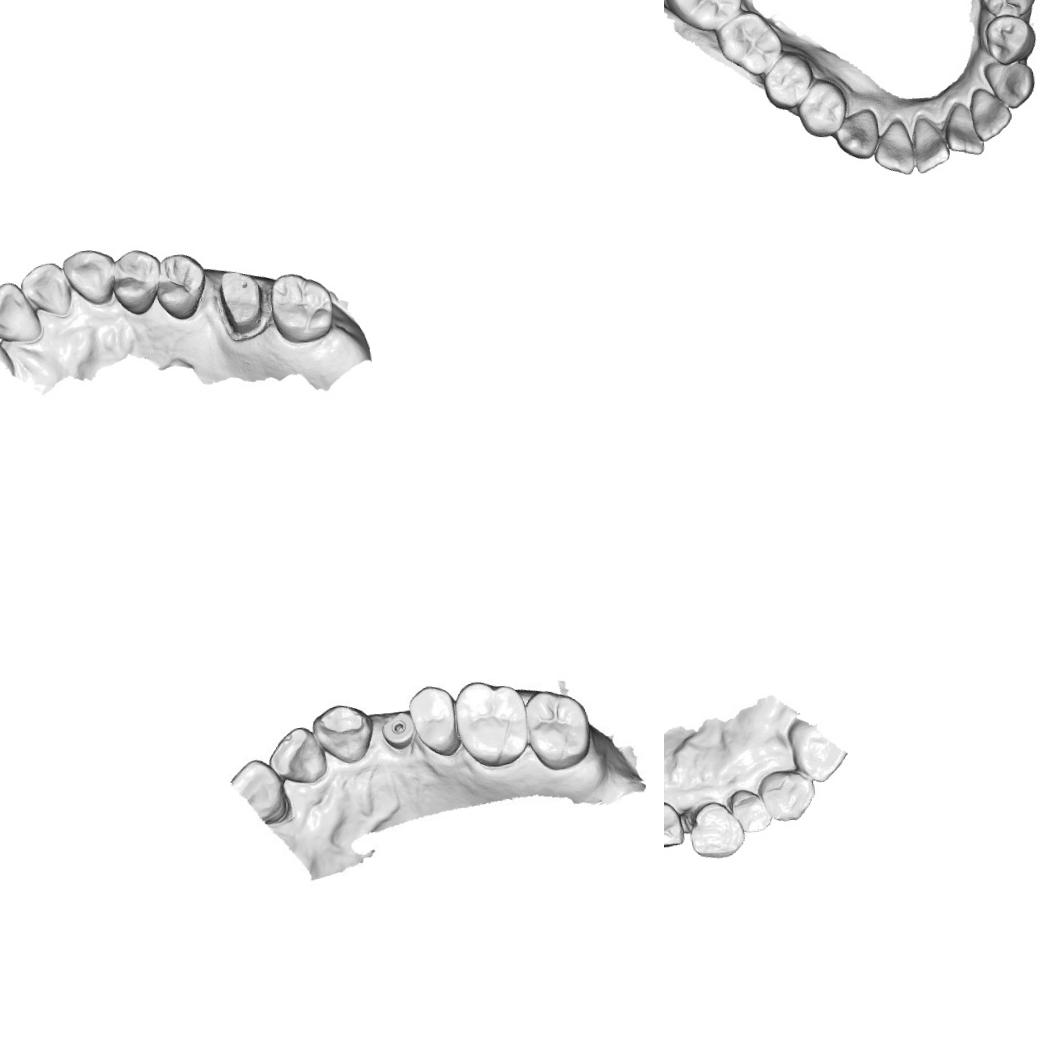canine: (310, 696, 373, 766), (686, 798, 748, 862), (59, 244, 118, 310), (981, 56, 1038, 112), (831, 104, 883, 162)
crown: (212, 266, 270, 341)
implant: (379, 713, 418, 756)
incisor: (228, 753, 289, 827), (15, 258, 78, 323), (265, 722, 328, 787), (756, 766, 819, 824), (0, 277, 44, 349), (870, 114, 918, 179), (908, 112, 954, 175), (967, 84, 1013, 144), (941, 98, 986, 158), (727, 786, 773, 834)
molar: (452, 676, 530, 769), (519, 684, 593, 772), (711, 4, 788, 81), (266, 268, 338, 348), (664, 0, 746, 36)
premolar: (406, 681, 462, 759), (151, 250, 209, 323), (109, 246, 164, 319), (793, 75, 852, 140), (758, 48, 815, 112), (980, 11, 1038, 68), (976, 0, 1040, 20), (664, 796, 685, 851)
